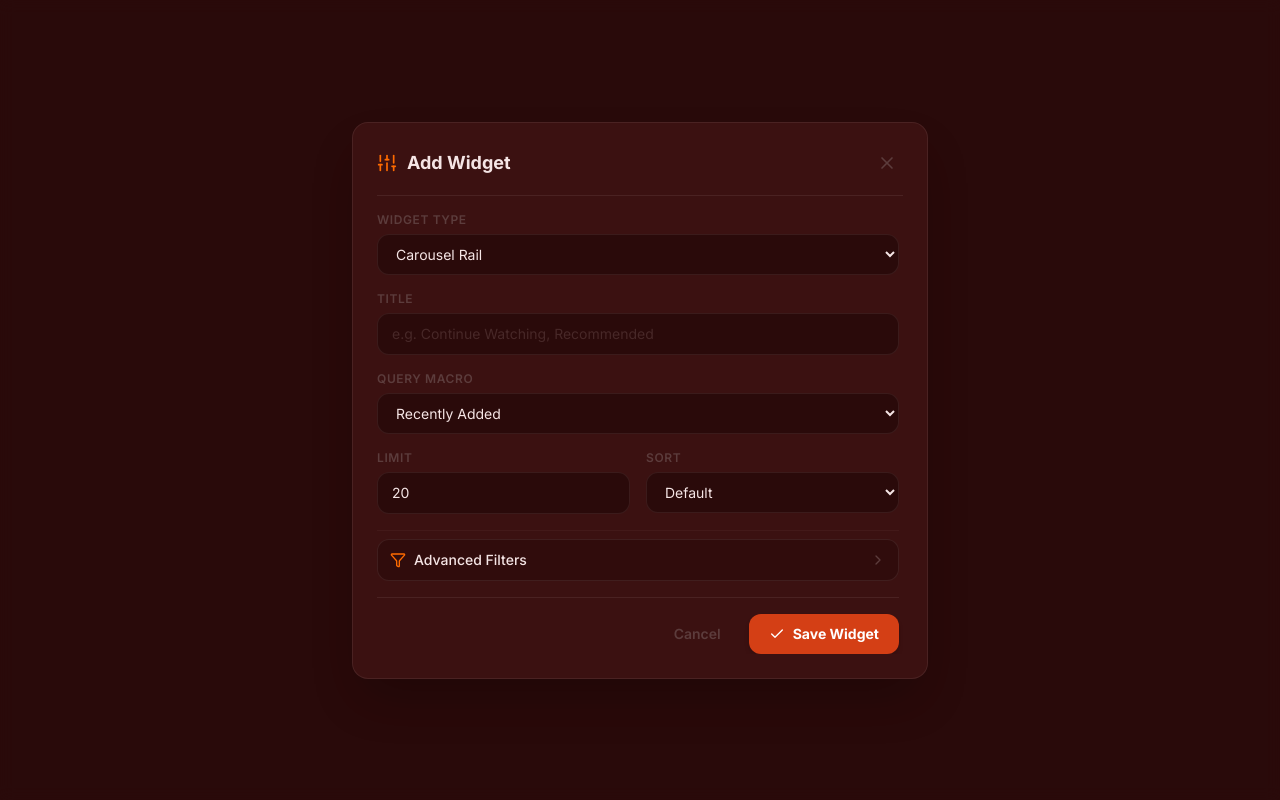
it: WidgetConfigModal Component › selects library_items macro and verifies library dropdown renders with passed libraries
Expected: the field labelled "Target Library" is not shown
Change macro to library_items
Select "Library Items" in the dropdown labelled "Query Macro" at (638, 413), box [377,392,899,434]
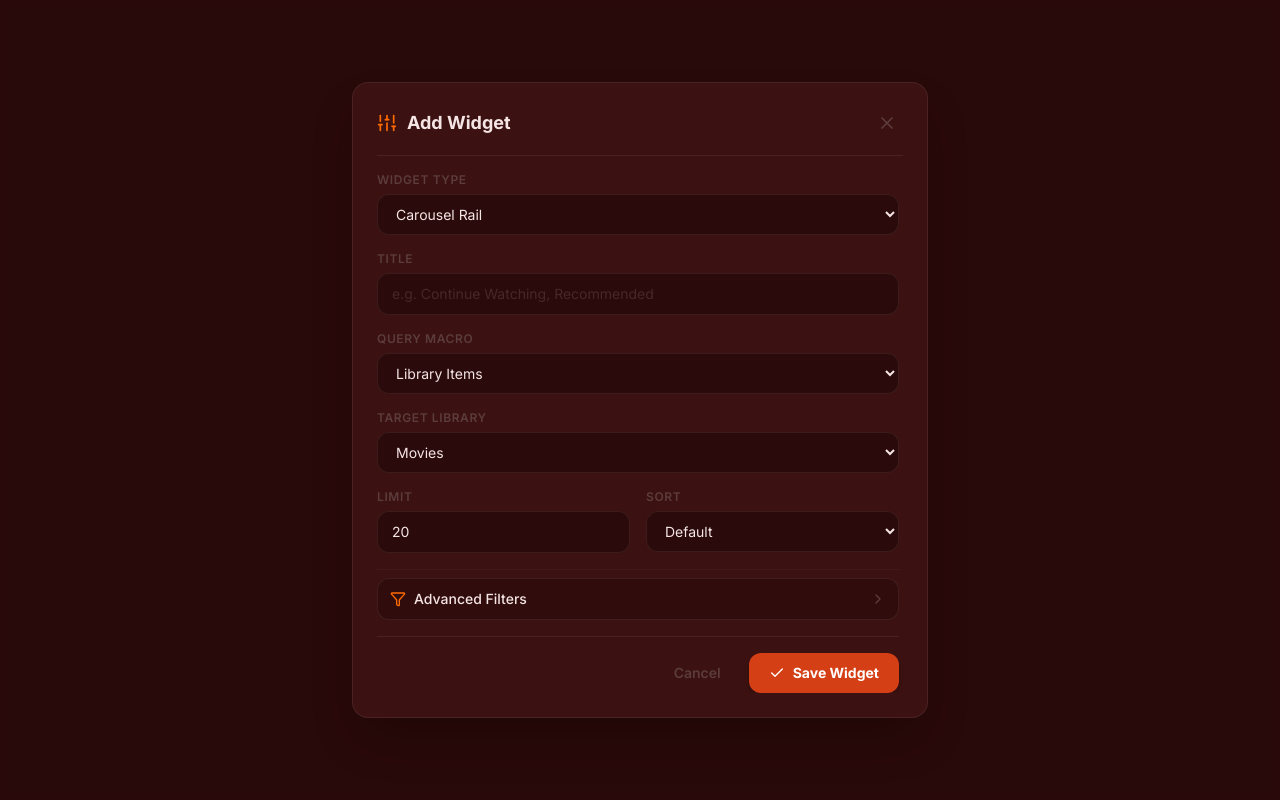
Result: the dropdown labelled "Target Library" is shown at [377,432,899,473]
